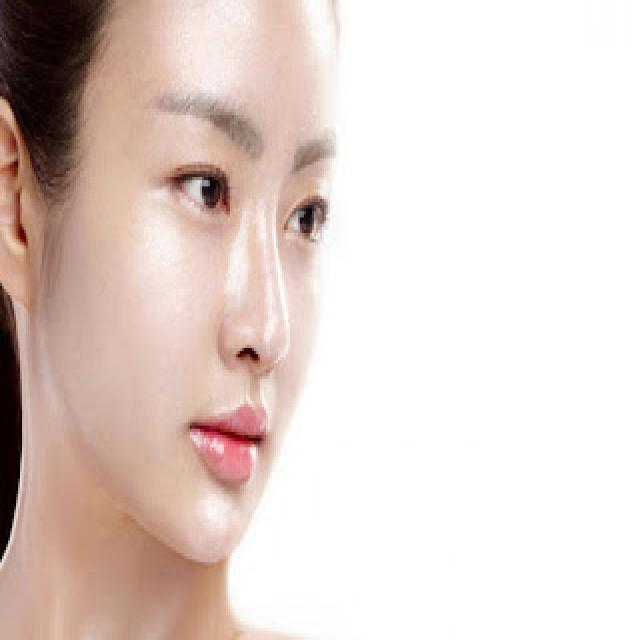oily: (169, 4, 250, 98), (144, 200, 184, 316), (258, 189, 278, 365), (222, 200, 252, 304)
